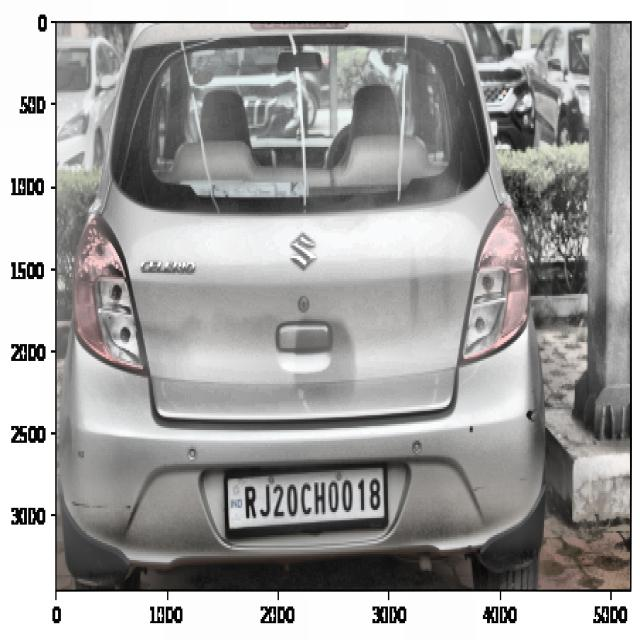license_plate: (241, 469, 384, 525)
